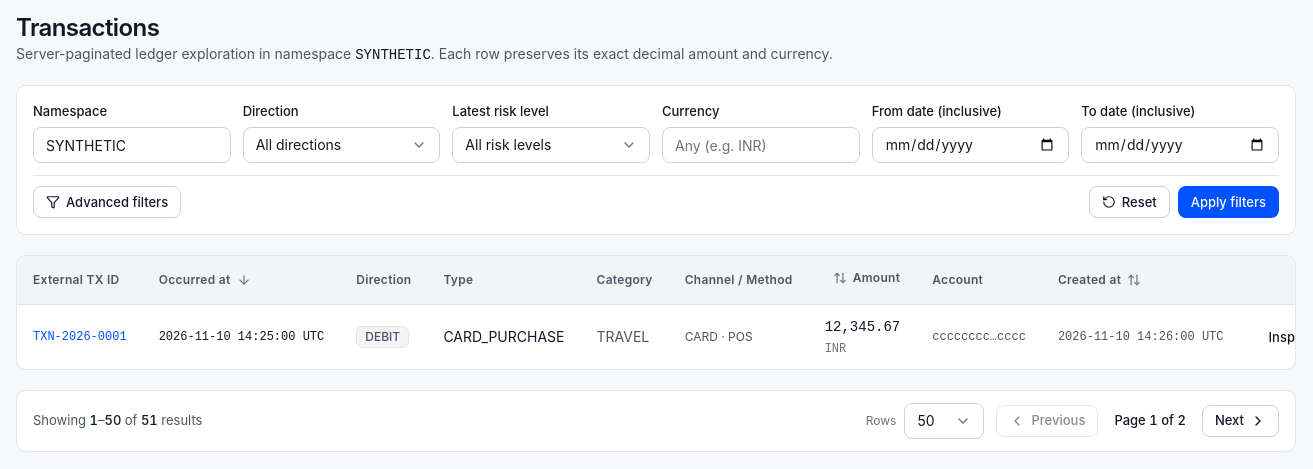
TransactionsListPage (F3.4) › renders server-paginated ledger rows, preserves decimal strings, and updates URL sort & page
This screenshot has width=1313, height=469.
expect the link "TXN-2026-0001" is shown: met, box [33,330,127,344]
expect the text "12,345.67" is shown: met, box [825,316,900,336]
Step 1. Click the button "Amount" → [866, 278], box [833,270,900,286]
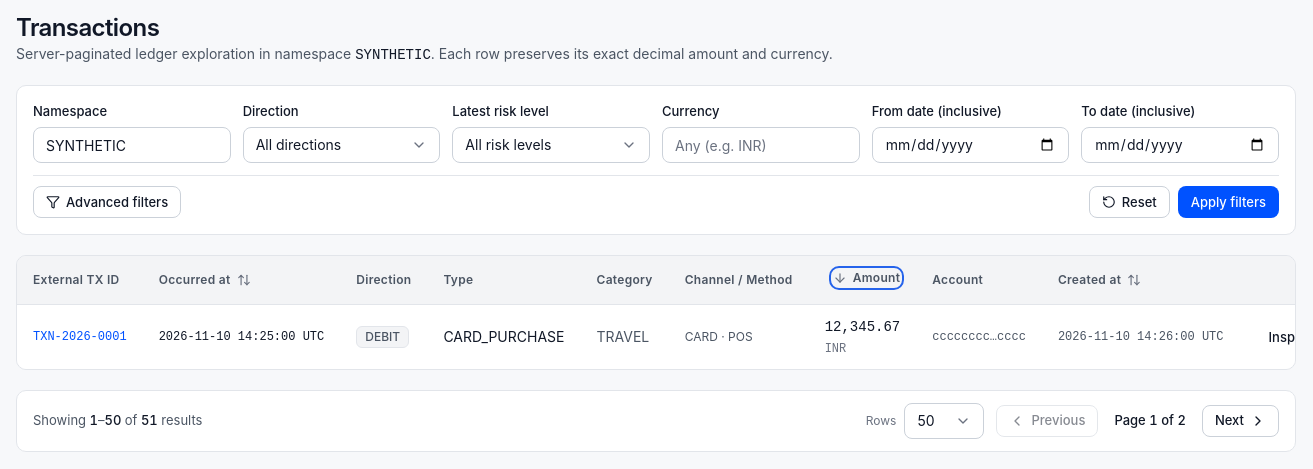
Step 2. Click the button with aria-label "Next page" → [1240, 420], box [1202,404,1279,436]
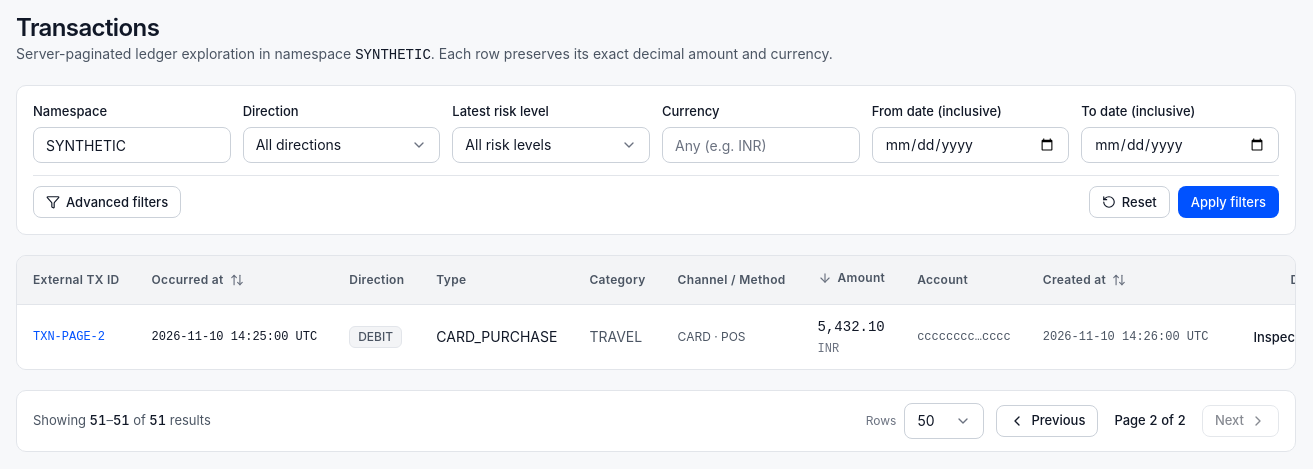
expect the link "TXN-PAGE-2" is shown: met, box [33,330,105,344]
expect the text "5,432.10" is shown: met, box [818,316,885,336]
